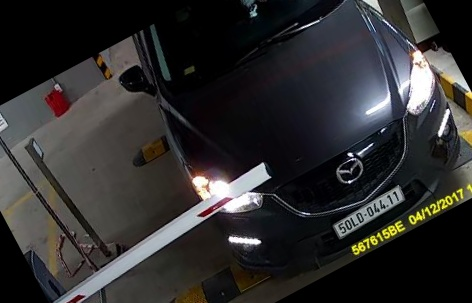plate: (328, 186, 407, 242)
